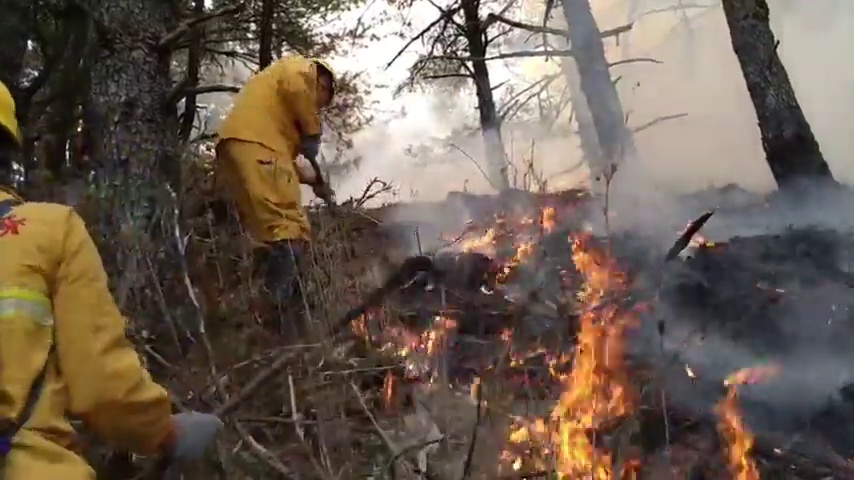fire: (559, 315, 610, 479), (726, 379, 756, 476), (575, 249, 607, 301), (514, 420, 547, 444), (541, 204, 556, 232), (476, 229, 495, 250), (427, 328, 437, 351)
